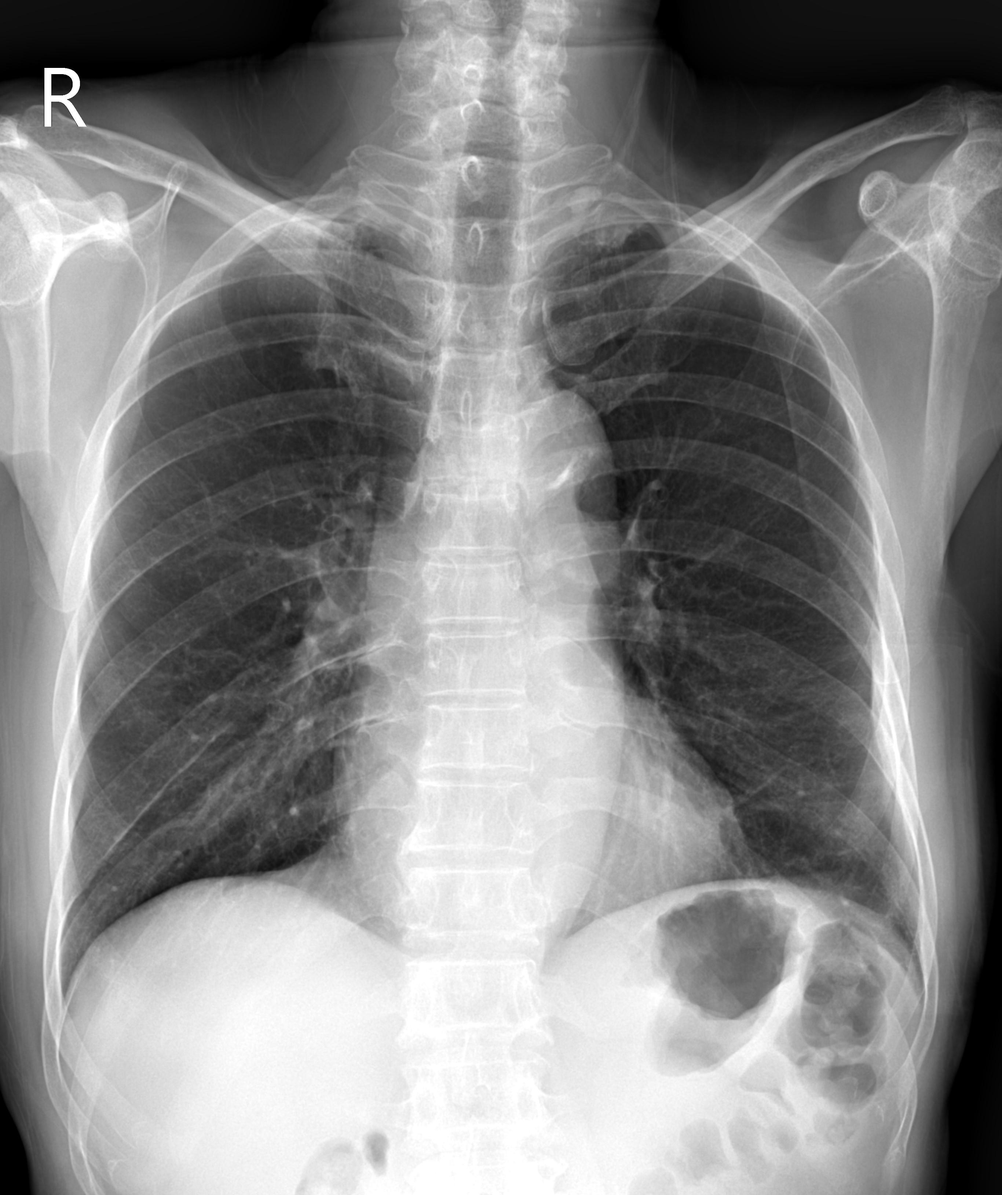Aortic enlargement: (481, 387, 625, 566)
Pleural thickening: (565, 223, 661, 247)
Pulmonary fibrosis: (597, 236, 637, 320)
